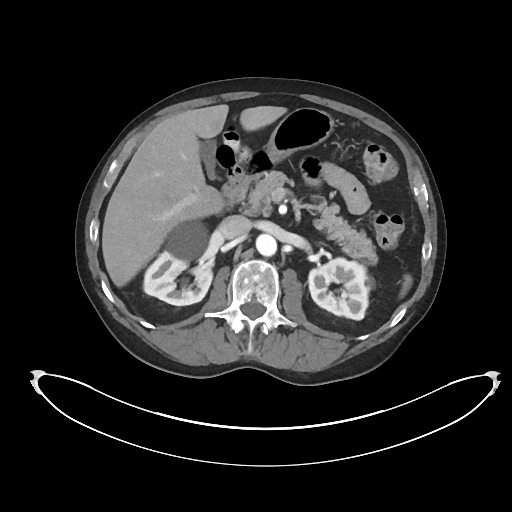Lesion: (362, 270, 379, 296)
